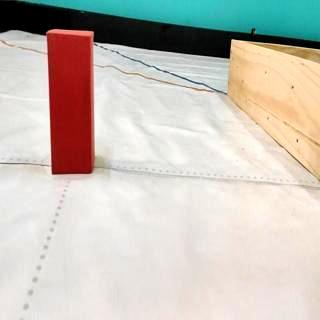redbox: (46, 28, 95, 175)
